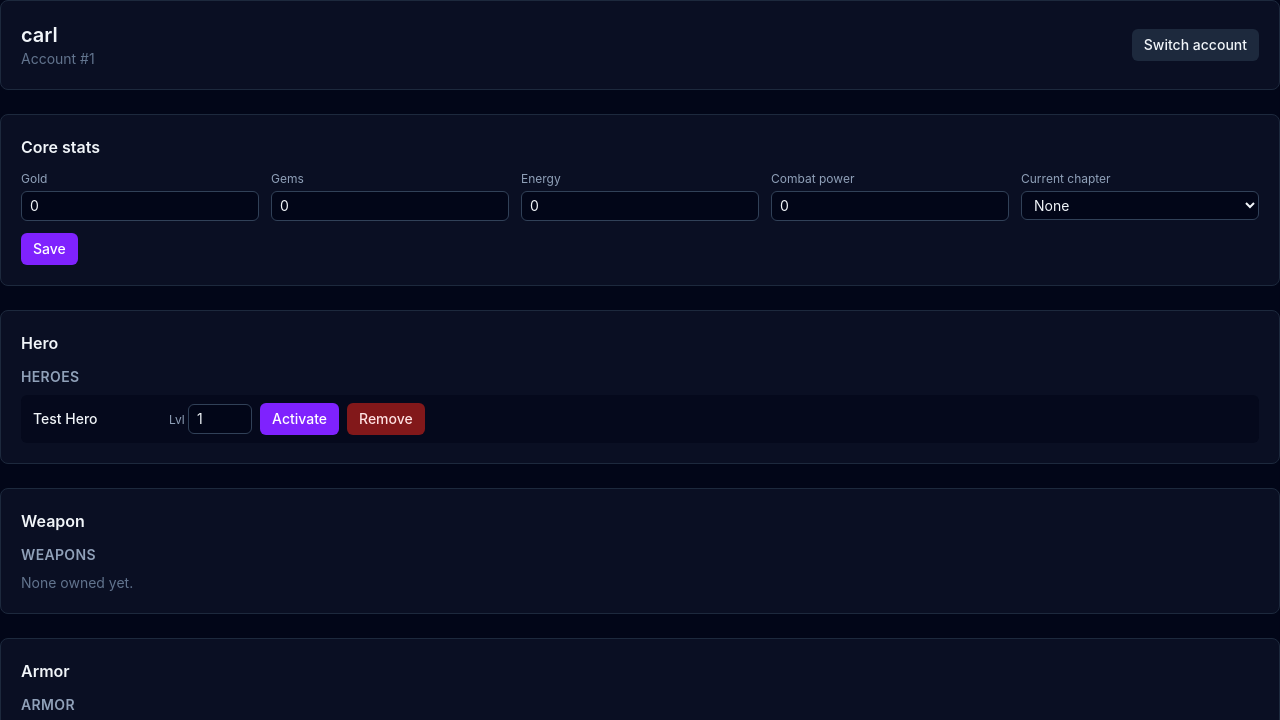
Scenario: MyAccountPage › surfaces an error banner when a mutation fails
Expected: the text "Test Hero" is shown, [33,410,98,427]
Click the button "Activate" at (300, 419), box [260,403,339,435]
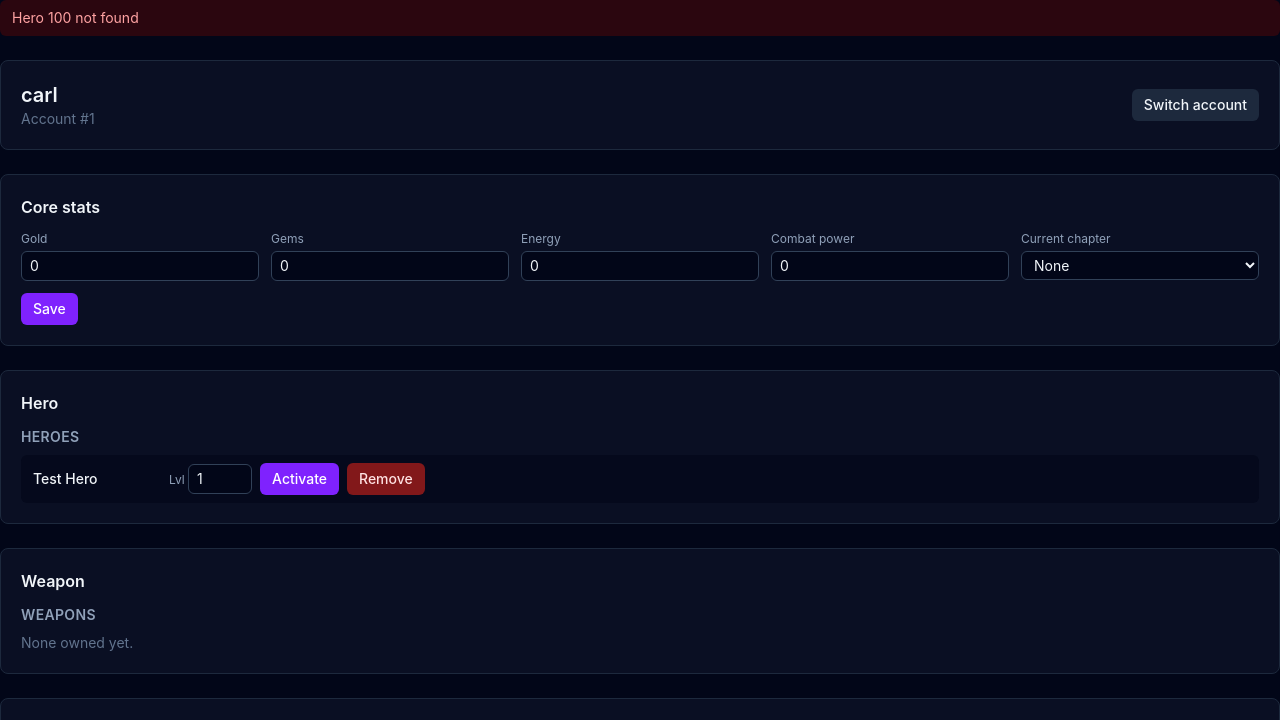
Expected: the text "Hero 100 not found" is shown, [0,0,1279,36]
